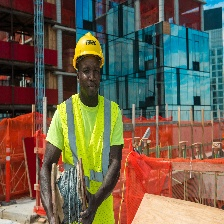helmet: (71, 31, 107, 73)
person: (39, 24, 126, 221)
vest: (56, 90, 119, 219)
